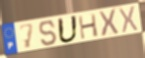7: (19, 22, 35, 50)
H: (77, 12, 100, 40)
S: (38, 20, 59, 47)
U: (57, 15, 79, 44)
X: (97, 8, 120, 39), (118, 5, 139, 34)
